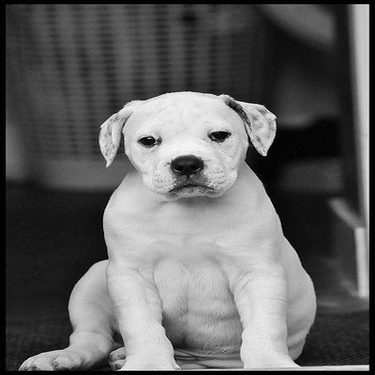dog: (16, 85, 322, 366)
